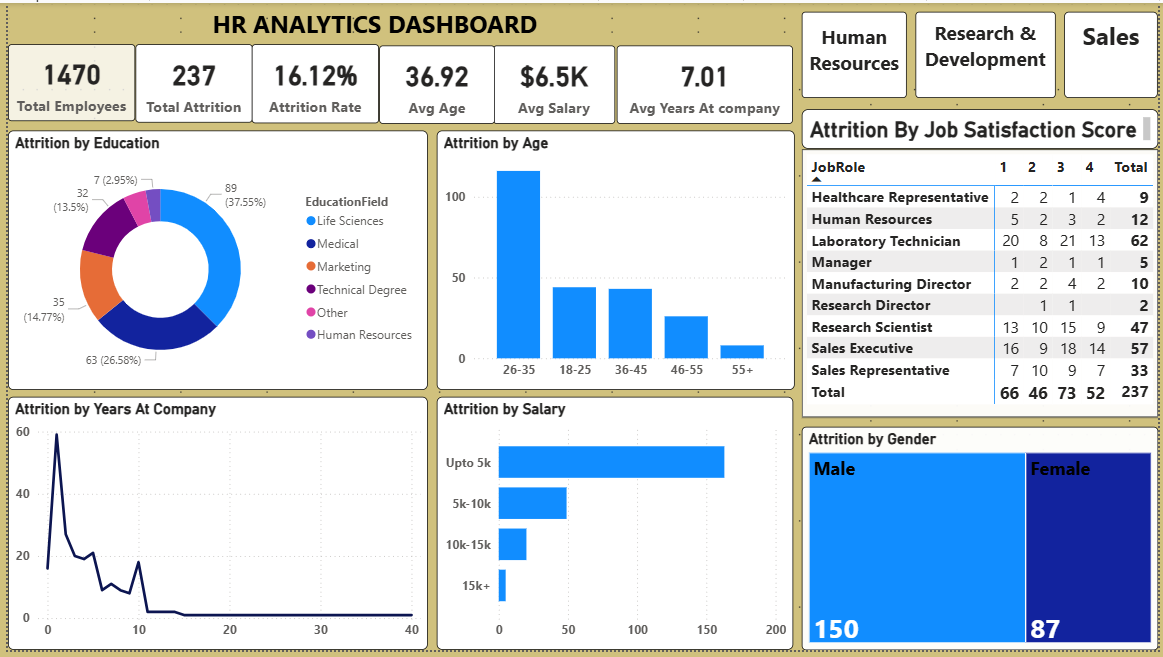

What the dashboard file says about the page in this screenshot:
{"tool":"powerbi","page":{"name":"Page 1","canvas":[1280,720],"ordinal":0},"visuals":[{"type":"card","fields":{"Values":["HR_Analysis Dataset clean (3).Total Employees"]},"box":[0,45.7,141.4,85.7],"z":0},{"type":"card","fields":{"Values":["HR_Analysis Dataset clean (3).Total Attrition"]},"box":[141.4,45.7,130,87],"z":1000},{"type":"card","fields":{"Values":["HR_Analysis Dataset clean (3).Avg Salary"]},"box":[540,47.1,135.7,87],"z":2000},{"type":"card","fields":{"Values":["HR_Analysis Dataset clean (3).Attrition Rate"]},"box":[271.4,45.7,141.4,88],"z":3000},{"type":"card","fields":{"Values":["HR_Analysis Dataset clean (3).Avg Years"]},"box":[677.1,47.1,195.7,87],"z":4000},{"type":"card","fields":{"Values":["HR_Analysis Dataset clean (3).Avg Age"]},"box":[412.9,47.1,128.6,87],"z":5000},{"type":"donutChart","title":"Attrition by Education","fields":{"Category":["HR_Analysis Dataset clean (3).EducationField"],"Y":["HR_Analysis Dataset clean (3).Total Attrition"]},"box":[0,141.4,467.1,288.6],"z":6000},{"type":"lineChart","title":"Attrition by Years At Company","fields":{"Category":["HR_Analysis Dataset clean (3).Years At Company"],"Y":["HR_Analysis Dataset clean (3).Total Attrition"]},"box":[0,438.6,467.1,281.4],"z":7000},{"type":"columnChart","title":"Attrition by Age","fields":{"Category":["HR_Analysis Dataset clean (3).AgeGroup"],"Y":["HR_Analysis Dataset clean (3).Total Attrition"]},"box":[477.1,141.4,398.6,288.6],"z":8000},{"type":"barChart","title":"Attrition by Salary","fields":{"Category":["HR_Analysis Dataset clean (3).SalarySlab"],"Y":["HR_Analysis Dataset clean (3).Total Attrition"]},"box":[477.1,438.6,397.1,281.4],"z":9000},{"type":"treemap","title":"Attrition by Gender","fields":{"Group":["HR_Analysis Dataset clean (3).Gender"],"Values":["HR_Analysis Dataset clean (3).Total Attrition"]},"box":[882.9,471.4,397.1,248.6],"z":10000},{"type":"pivotTable","fields":{"Rows":["HR_Analysis Dataset clean (3).JobRole"],"Columns":["HR_Analysis Dataset clean (3).Job Satisfaction"],"Values":["HR_Analysis Dataset clean (3).Total Attrition"]},"box":[882.9,162.9,397.1,298.6],"z":11000},{"type":"textbox","box":[882.9,10,117.1,95.7],"z":12000},{"type":"textbox","box":[1010,10,155.7,95.7],"z":13000},{"type":"textbox","box":[1175.7,10,104.3,95.7],"z":14000},{"type":"textbox","box":[882.9,118.6,397.1,44.3],"z":15000},{"type":"textbox","box":[222.9,0,385.7,45.7],"z":16000}]}

Visuals, with their boxes in screenshot pixels (x1, y1, x2, y2), scaled from the page's 1280x720 canvas onto the 1163x657 screenshot:
card - HR_Analysis Dataset clean (3).Total Employees: x1=0, y1=42, x2=128, y2=120
card - HR_Analysis Dataset clean (3).Total Attrition: x1=128, y1=42, x2=247, y2=121
card - HR_Analysis Dataset clean (3).Avg Salary: x1=491, y1=43, x2=614, y2=122
card - HR_Analysis Dataset clean (3).Attrition Rate: x1=247, y1=42, x2=375, y2=122
card - HR_Analysis Dataset clean (3).Avg Years: x1=615, y1=43, x2=793, y2=122
card - HR_Analysis Dataset clean (3).Avg Age: x1=375, y1=43, x2=492, y2=122
"Attrition by Education" donutChart: x1=0, y1=129, x2=424, y2=392
"Attrition by Years At Company" lineChart: x1=0, y1=400, x2=424, y2=656
"Attrition by Age" columnChart: x1=433, y1=129, x2=796, y2=392
"Attrition by Salary" barChart: x1=433, y1=400, x2=794, y2=656
"Attrition by Gender" treemap: x1=802, y1=430, x2=1162, y2=656
pivotTable - HR_Analysis Dataset clean (3).JobRole x HR_Analysis Dataset clean (3).Job Satisfaction: x1=802, y1=149, x2=1162, y2=421
textbox: x1=802, y1=9, x2=909, y2=96
textbox: x1=918, y1=9, x2=1059, y2=96
textbox: x1=1068, y1=9, x2=1162, y2=96
textbox: x1=802, y1=108, x2=1162, y2=149
textbox: x1=203, y1=0, x2=553, y2=42
